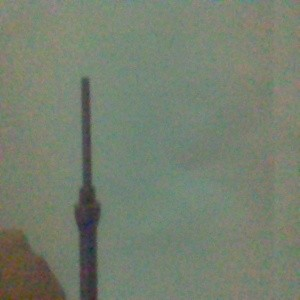obeng: (72, 77, 102, 300)
